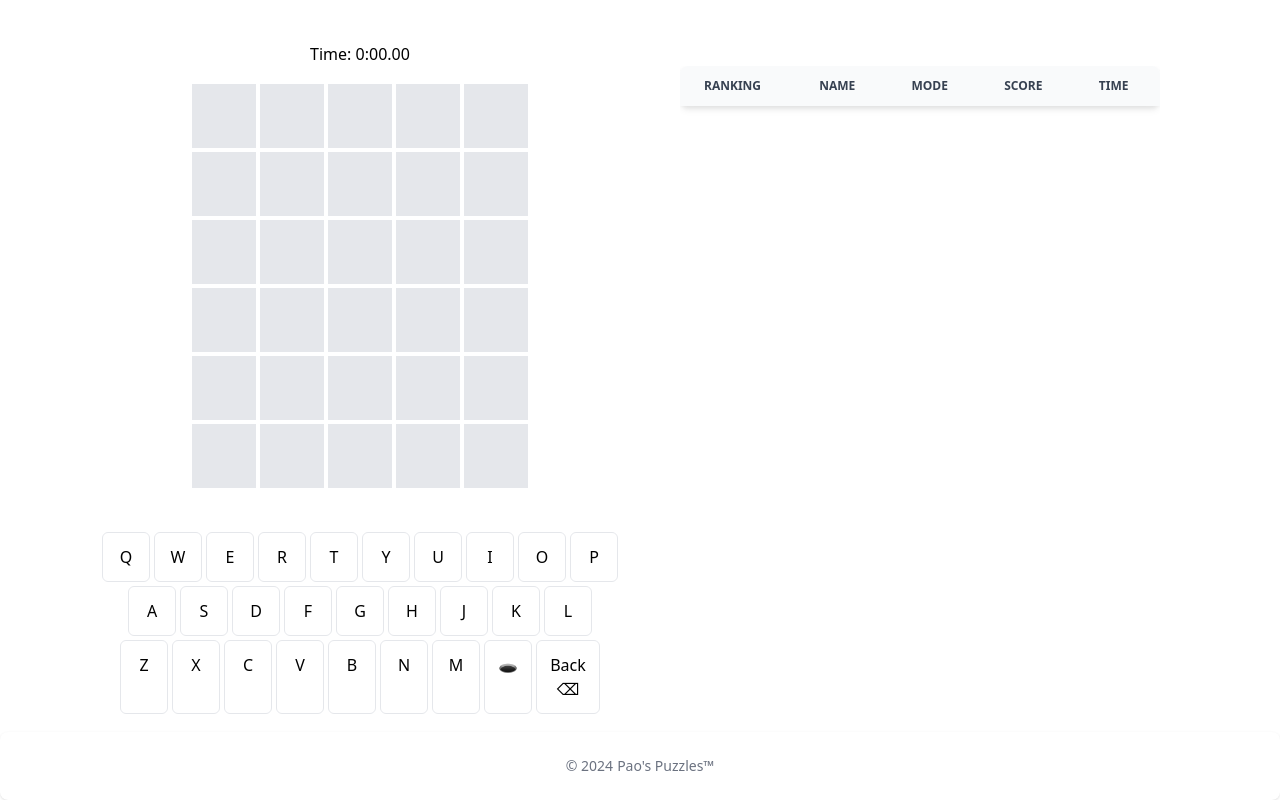
Test case: WordHole game › should have a working screen keyboard
The width and height of the screenshot is (1280, 800).
(page scrolled)
Expected: the text "Q" is shown, [102,532,150,582]
Click the text "A".
click(152, 611)  # box [128,586,176,636]
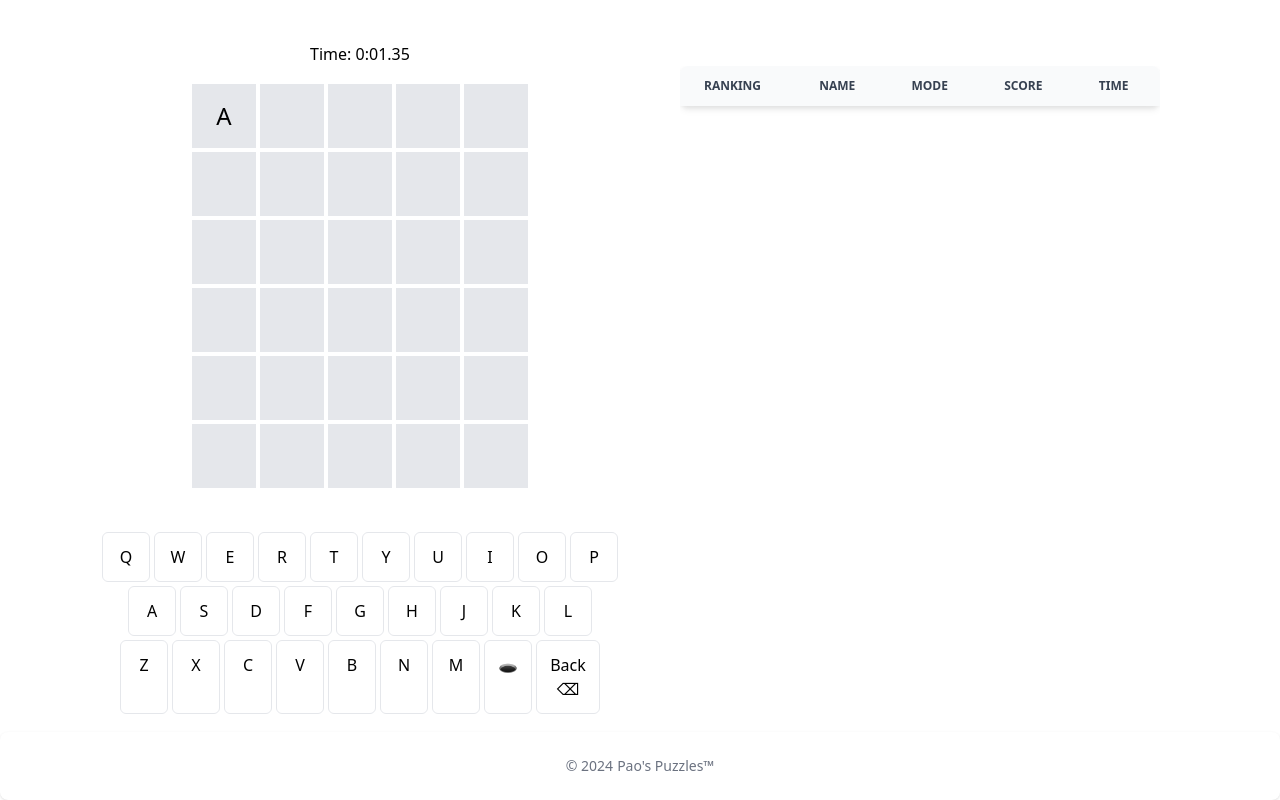
Expected: the text with class "wordle-row" reads "A", [216,99,231,132]
